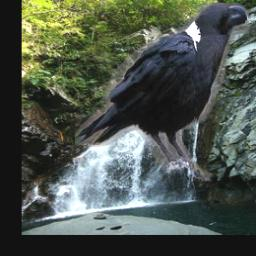Crow: (76, 4, 250, 183)
